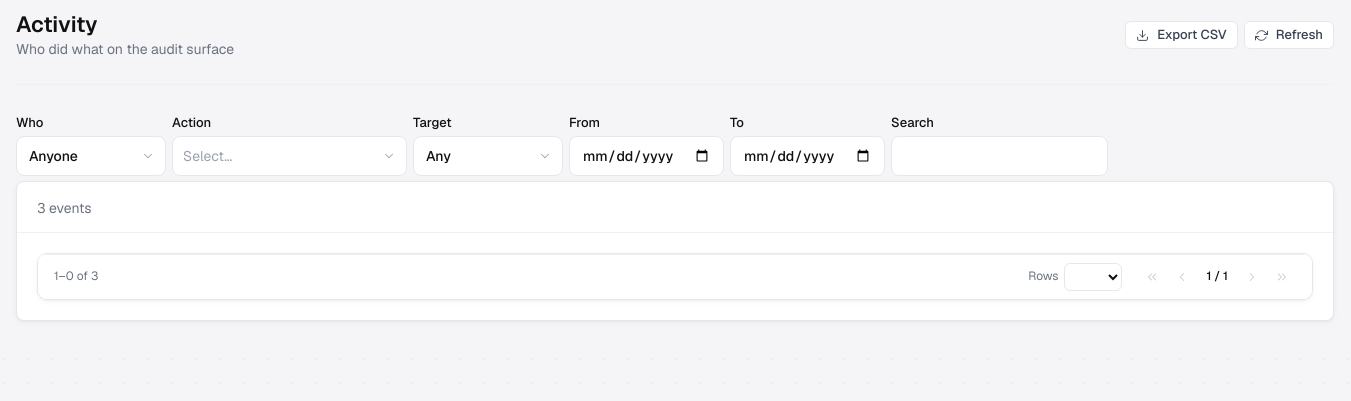
Test: AuditActivity — export › a failed export surfaces an error instead of failing silently
Step 1. Click the button with test id "activity-export" → (1182,35), box [1125,21,1238,50]
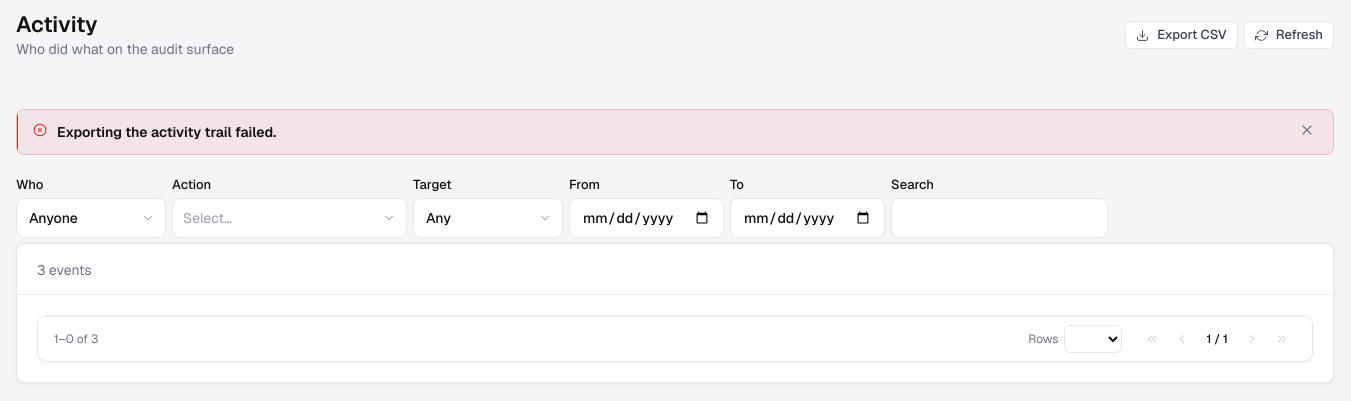
Expected: the text "Exporting the activity trail failed" is shown, [57,123,276,141]
